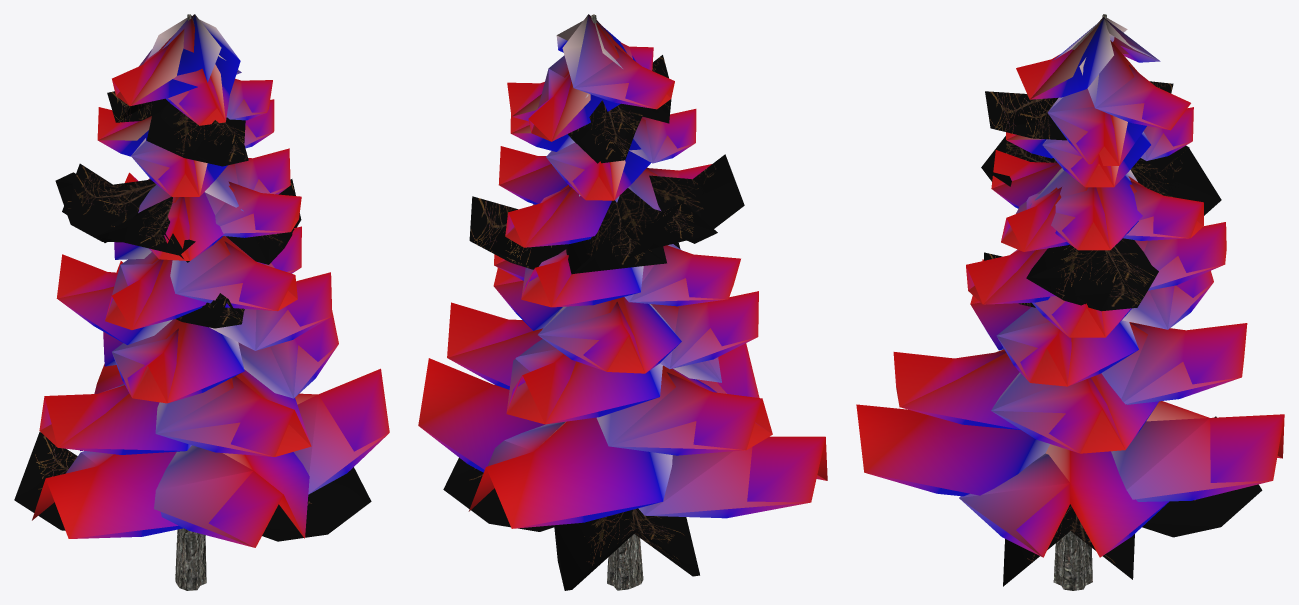
File: SprucePine001.DAE
3 views of the same model, side by side, from view 1: azimuth 30°, elevation 25°; view 2: azimuth 150°, elevation 25°; view 3: azimuth 270°, elevation 25° (orthographic). The views are drawn at different scales.
Parts seen in each view (by area): view 1: PineGr200, PineGr256; view 2: PineGr200, PineGr256; view 3: PineGr200, PineGr256.
Boxes of the visible parts, bbox=[...] form: PineGr200: bbox=[14, 14, 388, 582]; PineGr256: bbox=[15, 14, 389, 590]; PineGr200: bbox=[418, 14, 827, 590]; PineGr256: bbox=[420, 14, 826, 590]; PineGr200: bbox=[856, 17, 1284, 586]; PineGr256: bbox=[866, 14, 1284, 590].
Size of what is drawn, in the model's own units: 10.35 by 10.29 by 15.26.
